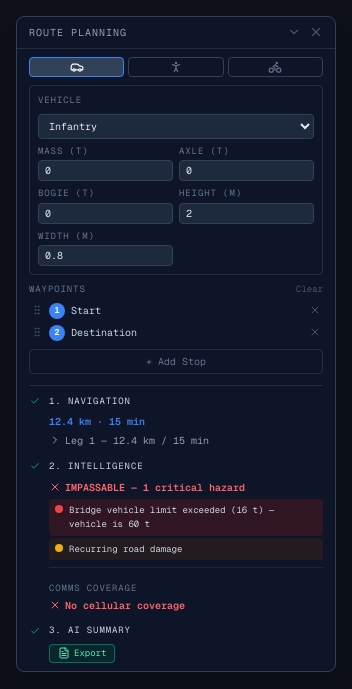
Scenario: RoutePanel › clears intelligence when route is cleared
// Clear waypoints
Click the button with aria-label "Clear all waypoints".
click(310, 289)  # box [296, 283, 323, 296]
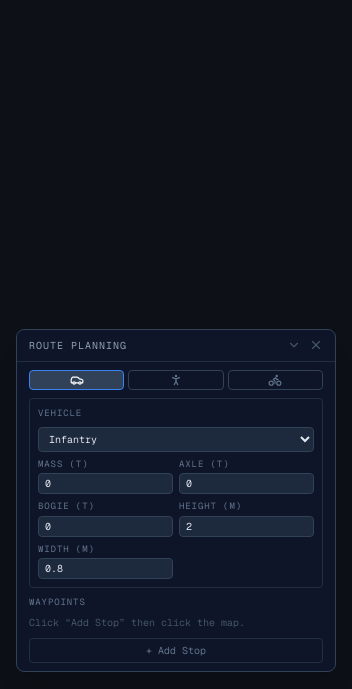
expect the element with test id "hazard-list" is gone: met
